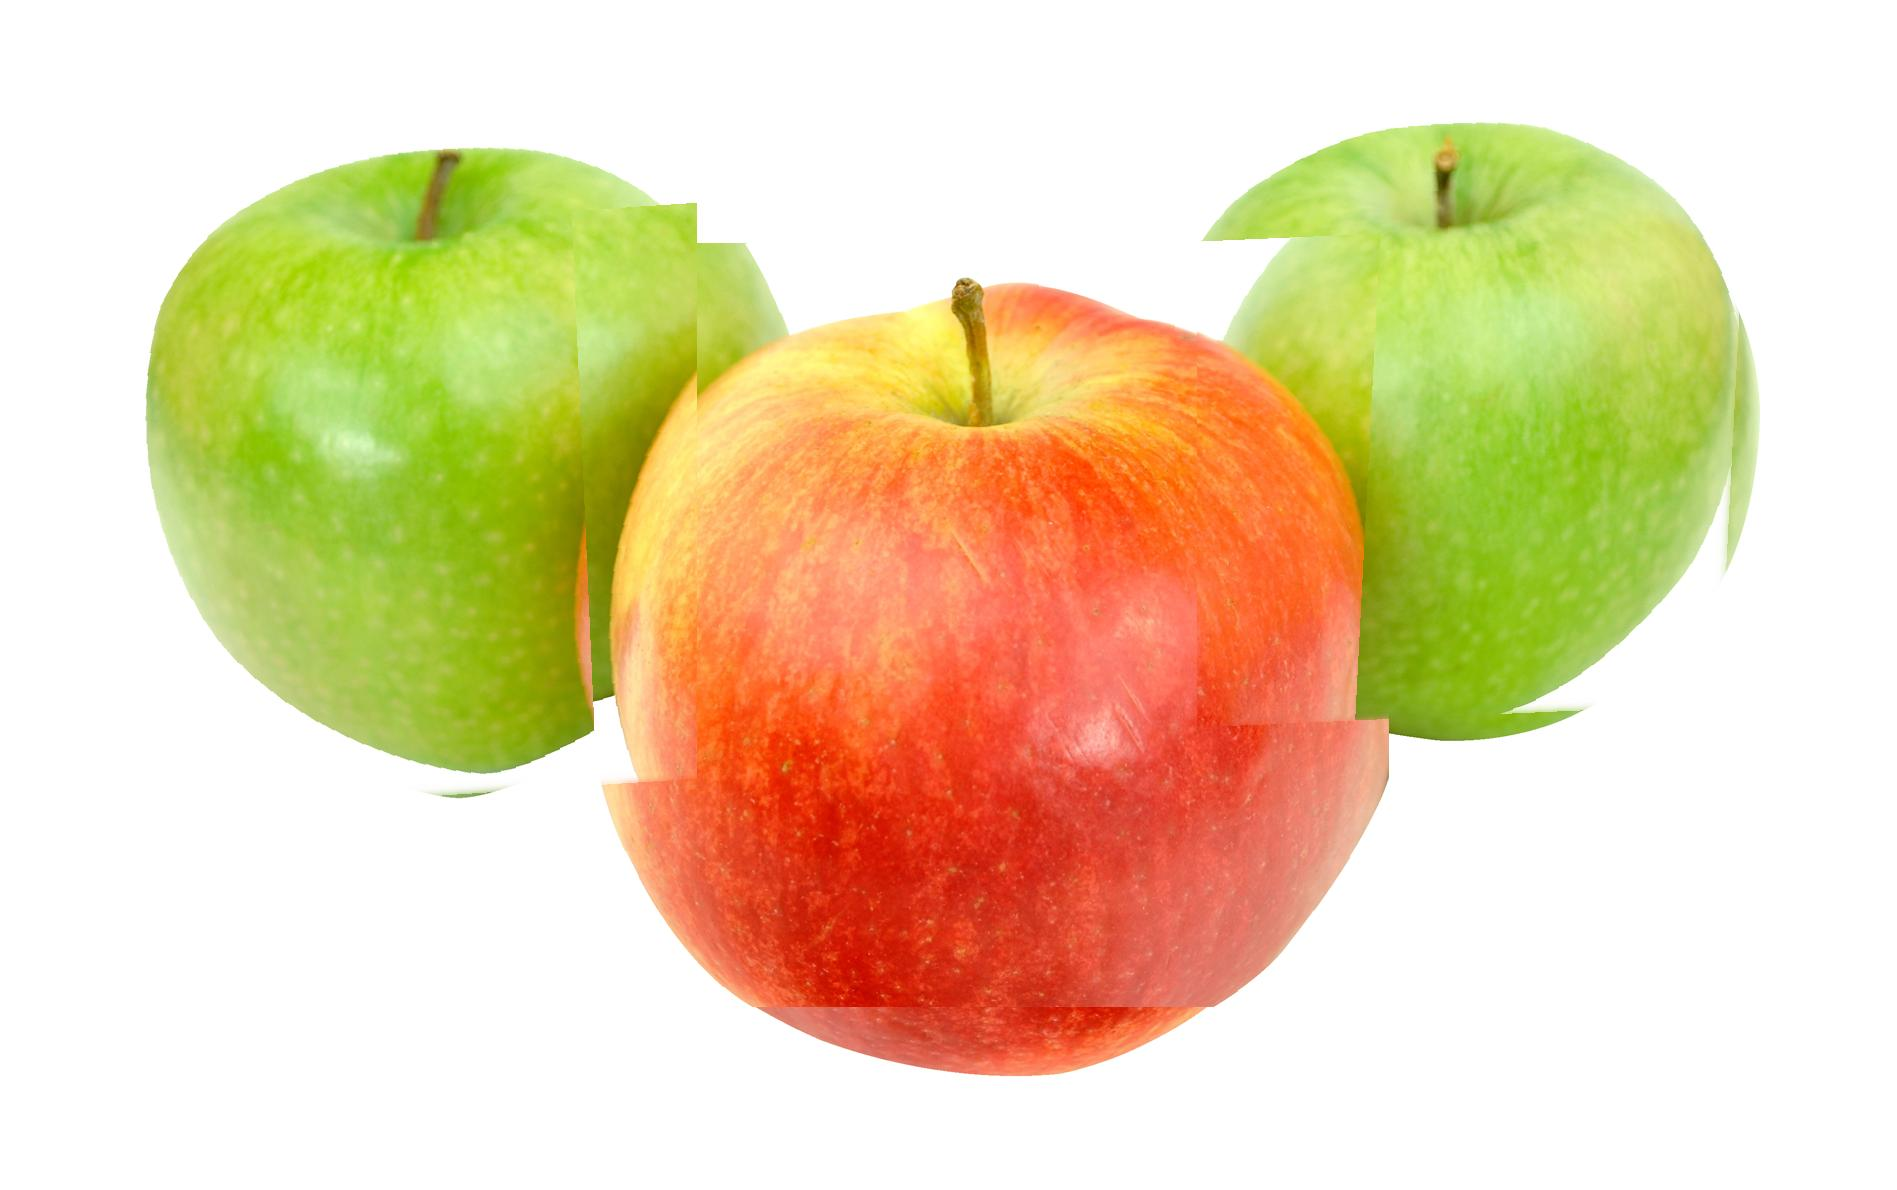Apple Fresh: (567, 243, 1390, 1006), (103, 119, 696, 817), (1197, 77, 1753, 729)
